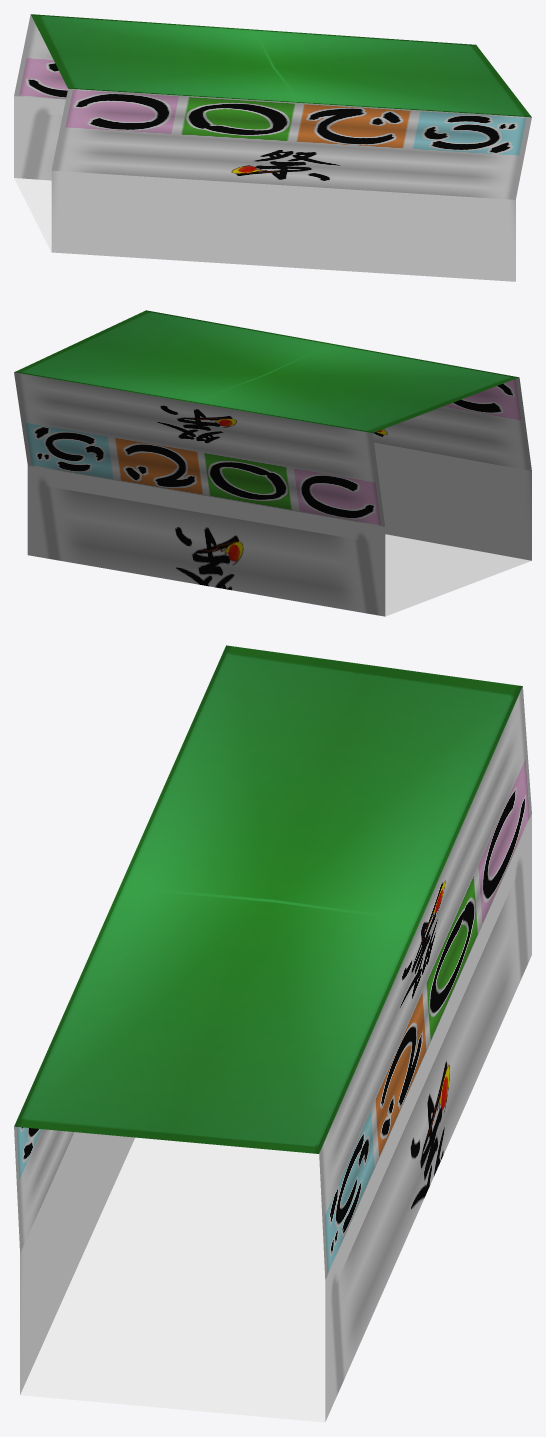
File: CourseAki_Wall_R_7_13.fbx
3 views of the same model, one above another, from view 1: azimuth 30°, elevation 25°; view 2: azimuth 150°, elevation 25°; view 3: azimuth 270°, elevation 25° (orthographic). The views are drawn at different scales.
Visible parts, largest first — view 1: polySurface406; view 2: polySurface406; view 3: polySurface406.
Part boxes in pixels (<box>): polySurface406: <box>14,14,531,281</box>; polySurface406: <box>14,310,531,616</box>; polySurface406: <box>14,645,531,1422</box>.
Bounding box in the file's own units: 5.74 × 2.98 × 3.32.
Materials: 1 (1 with a texture image).
